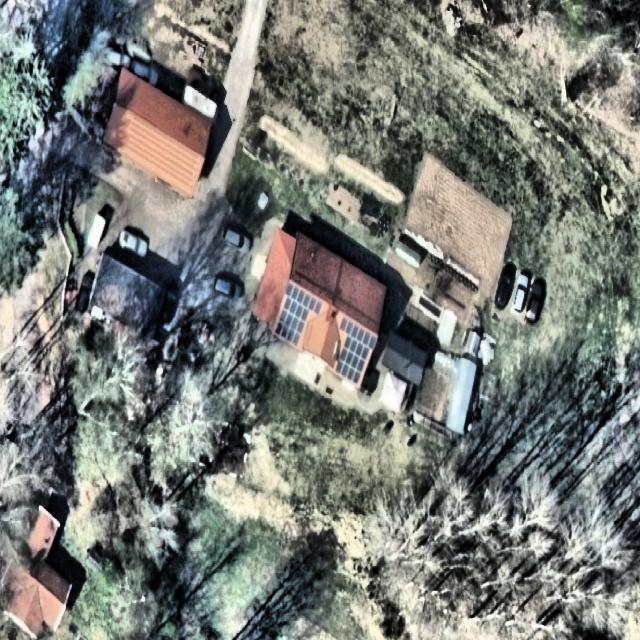roof_pv: (276, 297, 309, 346), (337, 341, 368, 387), (285, 282, 324, 316), (340, 317, 377, 349)
